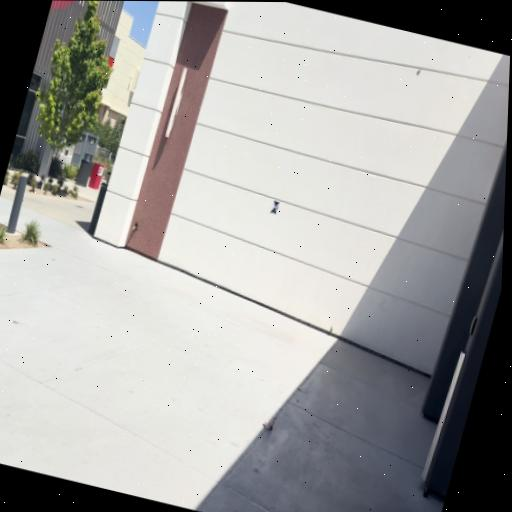target0: (270, 200, 280, 215)
